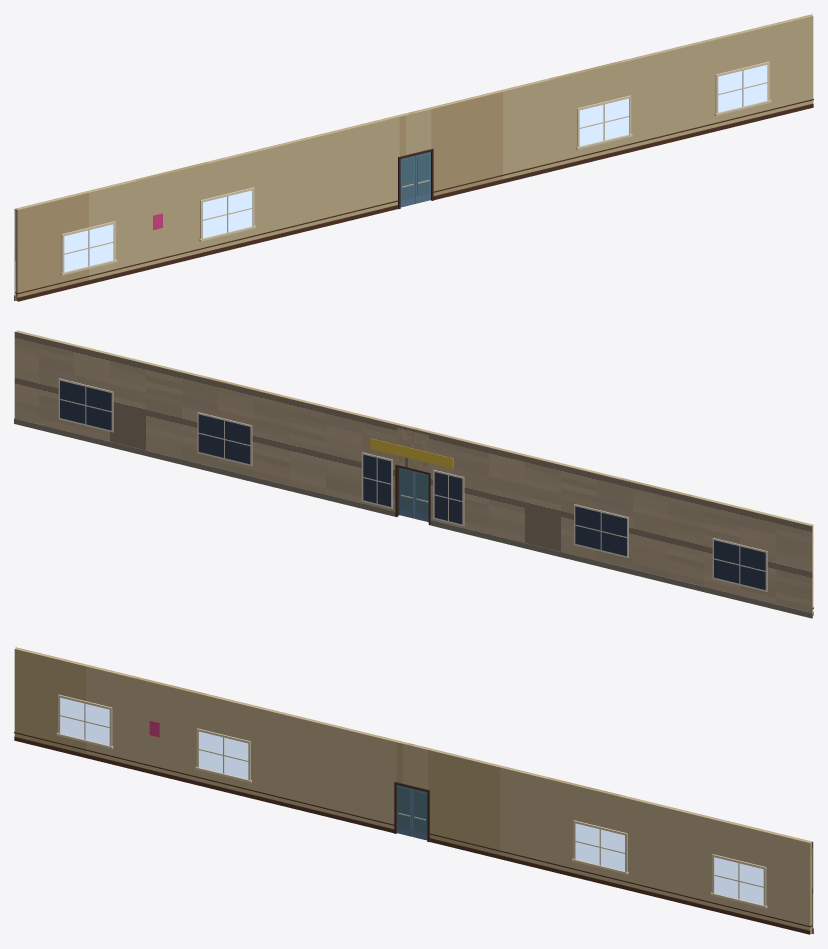
The model's file is mall_front.glb.
The picture shows the model from 3 angles, top to bottom: view 1: azimuth 30°, elevation 25°; view 2: azimuth 150°, elevation 25°; view 3: azimuth 330°, elevation 25°; orthographic projection.
Visible parts, largest first — view 1: Box1, Box3, Box2, Box4, Box30, Box63, Box41, Box52, Box5, Box78, Box77, Box79 (+1 smaller); view 2: Box6, Box8, Box7, Box9, Box23, Box34, Box45, Box56, Box71, Box67, Box1, Box10 (+3 smaller); view 3: Box3, Box1, Box4, Box2, Box30, Box63, Box52, Box41, Box5, Box76, Box79, Box77 (+1 smaller).
Part boxes in pixels (bbox=[...]): Box1: bbox=[16, 115, 399, 300]; Box3: bbox=[430, 15, 813, 195]; Box2: bbox=[17, 205, 398, 301]; Box4: bbox=[433, 103, 813, 200]; Box30: bbox=[64, 224, 113, 271]; Box63: bbox=[718, 64, 767, 112]; Box41: bbox=[203, 190, 252, 238]; Box52: bbox=[579, 98, 628, 146]; Box5: bbox=[398, 108, 431, 156]; Box78: bbox=[433, 101, 812, 195]; Box77: bbox=[15, 200, 398, 294]; Box79: bbox=[431, 99, 813, 192]; Box6: bbox=[429, 432, 812, 612]; Box8: bbox=[14, 331, 397, 516]; Box7: bbox=[429, 520, 812, 618]; Box9: bbox=[14, 418, 397, 517]; Box23: bbox=[714, 540, 765, 589]; Box34: bbox=[575, 506, 626, 556]; Box45: bbox=[198, 414, 250, 464]; Box56: bbox=[60, 380, 111, 430]; Box71: bbox=[363, 454, 390, 506]; Box67: bbox=[434, 472, 462, 524]; Box1: bbox=[430, 431, 813, 615]; Box10: bbox=[397, 425, 429, 472]; Box3: bbox=[428, 748, 811, 933]; Box1: bbox=[14, 648, 397, 828]; Box4: bbox=[429, 838, 810, 934]; Box2: bbox=[14, 736, 394, 833]; Box30: bbox=[60, 697, 109, 745]; Box63: bbox=[714, 857, 763, 904]; Box52: bbox=[575, 823, 624, 871]; Box41: bbox=[199, 731, 248, 779]; Box5: bbox=[396, 741, 429, 789]; Box76: bbox=[15, 733, 394, 828]; Box79: bbox=[429, 833, 812, 927]; Box77: bbox=[14, 732, 396, 825].
Size of the model in its own units: 40.27 by 4.44 by 0.395.
Materials: 14 (2 with a texture image).
